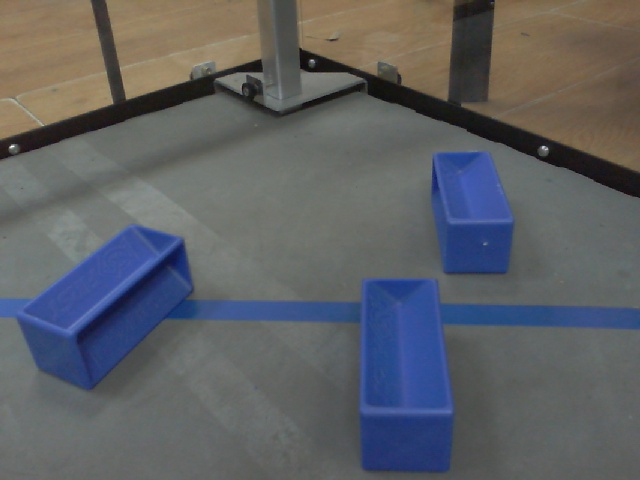BlueSample: (12, 221, 196, 393), (349, 271, 459, 479), (426, 148, 519, 280)
